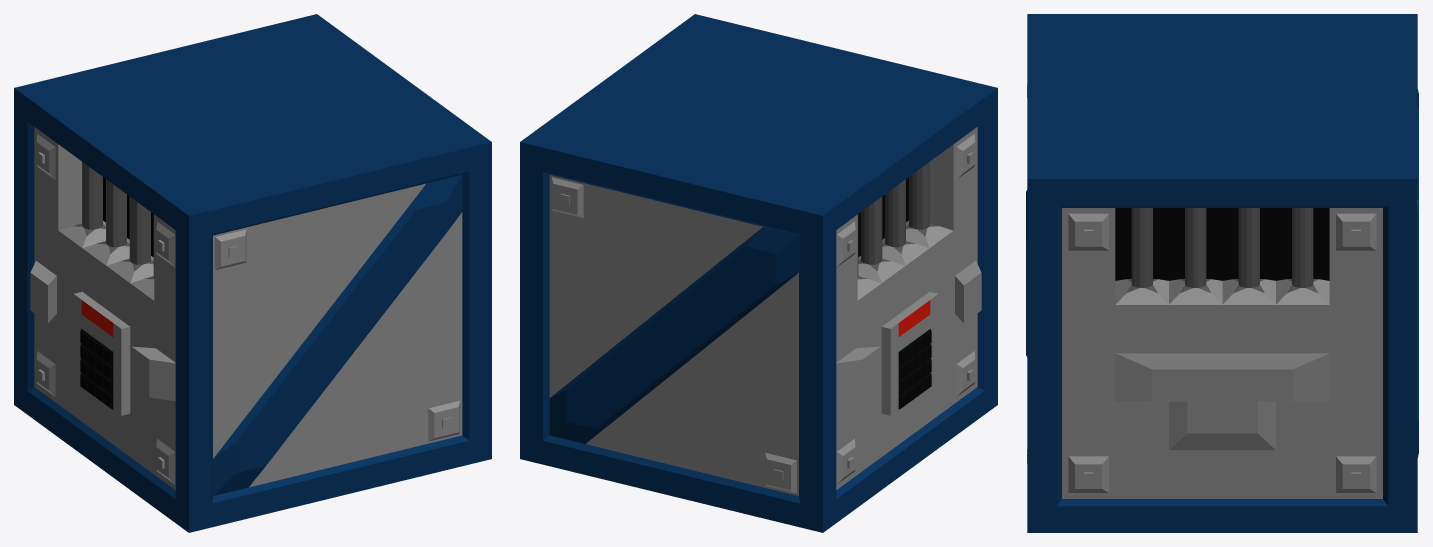
3 views of the same model, side by side, from view 1: azimuth 30°, elevation 25°; view 2: azimuth 150°, elevation 25°; view 3: azimuth 270°, elevation 25° (orthographic). The views are drawn at different scales.
Parts seen in each view (by area): view 1: Cube; view 2: Cube; view 3: Cube.
Boxes of the visible parts, x1=… form: Cube: x1=14, y1=14, x2=491, y2=532; Cube: x1=520, y1=14, x2=997, y2=532; Cube: x1=1026, y1=14, x2=1418, y2=532.
Size of the model in its own units: 209 by 200 by 201.
